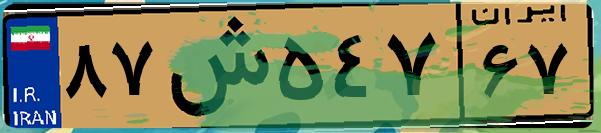4: (330, 28, 385, 110)
5: (270, 28, 330, 110)
6: (475, 38, 525, 113)
7: (385, 28, 445, 110), (525, 38, 570, 115), (110, 28, 158, 98)
8: (57, 26, 110, 100)
ش: (158, 12, 270, 120)
